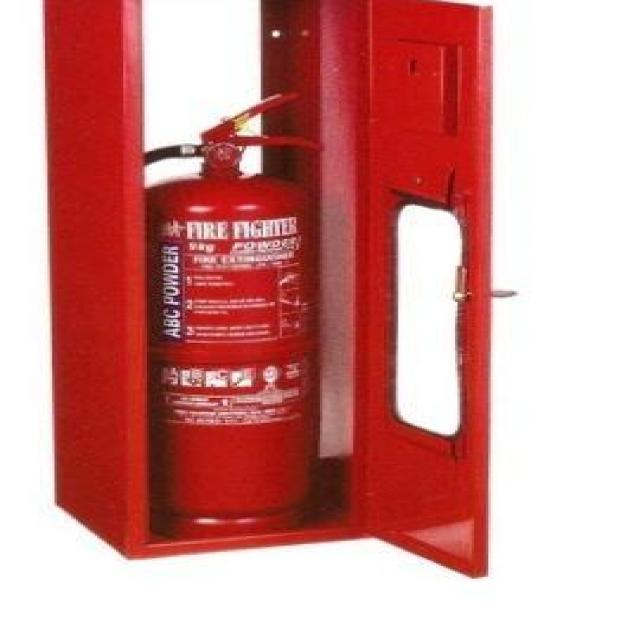fire_extinguisher: (84, 83, 331, 548)
